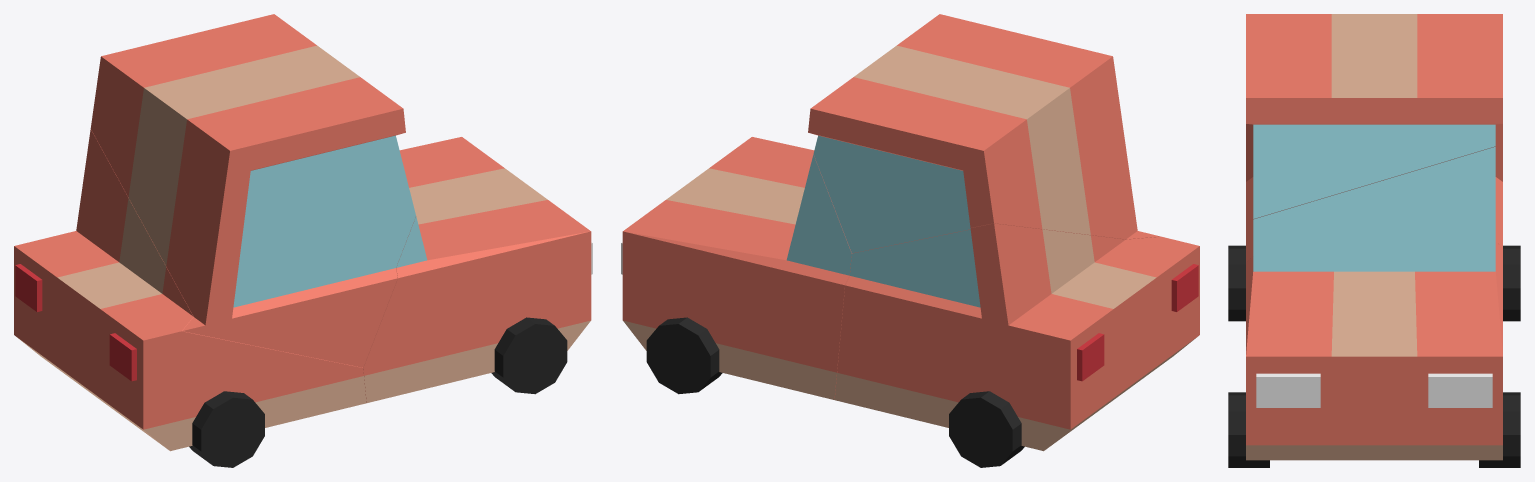
The model's file is Car 1 Fractured.fbx.
The picture shows the model from 3 angles, left to right: view 1: azimuth 30°, elevation 25°; view 2: azimuth 150°, elevation 25°; view 3: azimuth 270°, elevation 25°; orthographic projection.
Visible parts, largest first — view 1: Car_1_Breaking_cell, Car_1_Breaking_cell.002, Car_1_Breaking_cell.001; view 2: Car_1_Breaking_cell.002, Car_1_Breaking_cell, Car_1_Breaking_cell.001; view 3: Car_1_Breaking_cell.001, Car_1_Breaking_cell, Car_1_Breaking_cell.002.
Boxes of the visible parts, x1,y1,x2,y2 form: Car_1_Breaking_cell: (90, 14, 415, 367); Car_1_Breaking_cell.002: (14, 129, 366, 467); Car_1_Breaking_cell.001: (363, 137, 592, 402); Car_1_Breaking_cell.002: (834, 223, 1199, 467); Car_1_Breaking_cell: (808, 14, 1160, 253); Car_1_Breaking_cell.001: (621, 137, 852, 399); Car_1_Breaking_cell.001: (1228, 147, 1520, 467); Car_1_Breaking_cell: (1246, 14, 1502, 262); Car_1_Breaking_cell.002: (1228, 124, 1520, 321).
Size of the model in its own units: 411 by 264 by 227.
